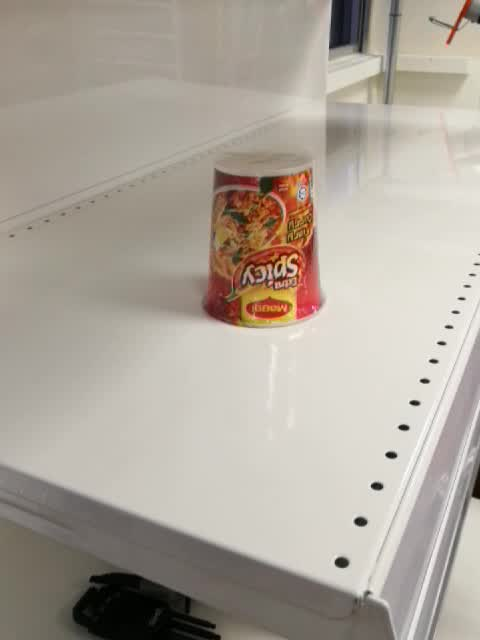maggi: (201, 151, 328, 329)
